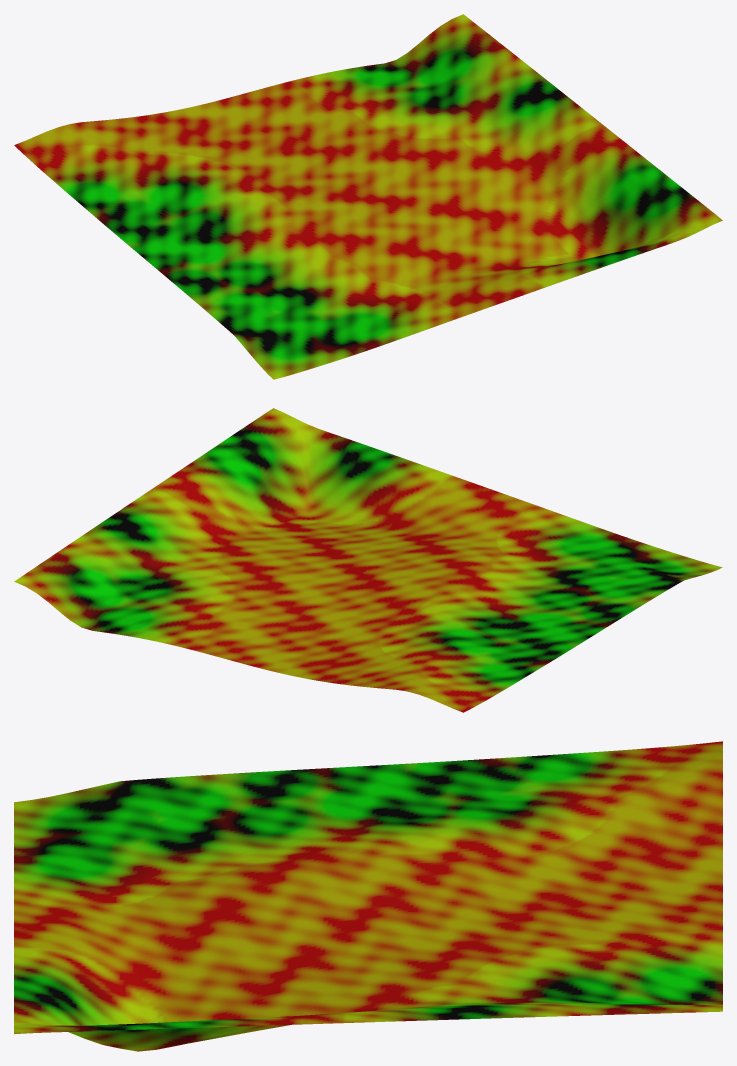
The model's file is P2N_forest_ground_overlay.glb.
3 renders of one model, top to bottom at view 1: azimuth 30°, elevation 25°; view 2: azimuth 150°, elevation 25°; view 3: azimuth 270°, elevation 25°, orthographic. The views are drawn at different scales.
Visible parts, largest first — view 1: P2N_forest_ground_overlay; view 2: P2N_forest_ground_overlay; view 3: P2N_forest_ground_overlay.
Boxes of the visible parts, bbox=[...] form: P2N_forest_ground_overlay: bbox=[14, 14, 722, 379]; P2N_forest_ground_overlay: bbox=[14, 408, 722, 712]; P2N_forest_ground_overlay: bbox=[14, 741, 722, 1051].
Size of the model in its own units: 80 by 11.5 by 80.
